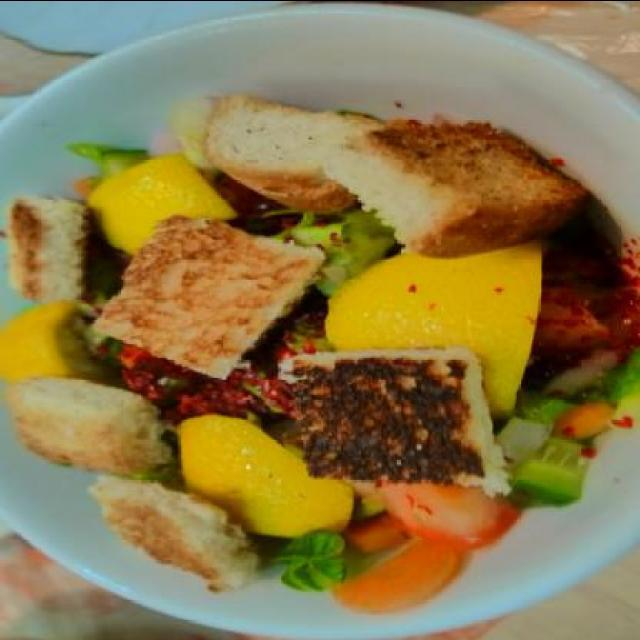Salad: (0, 83, 638, 620)
